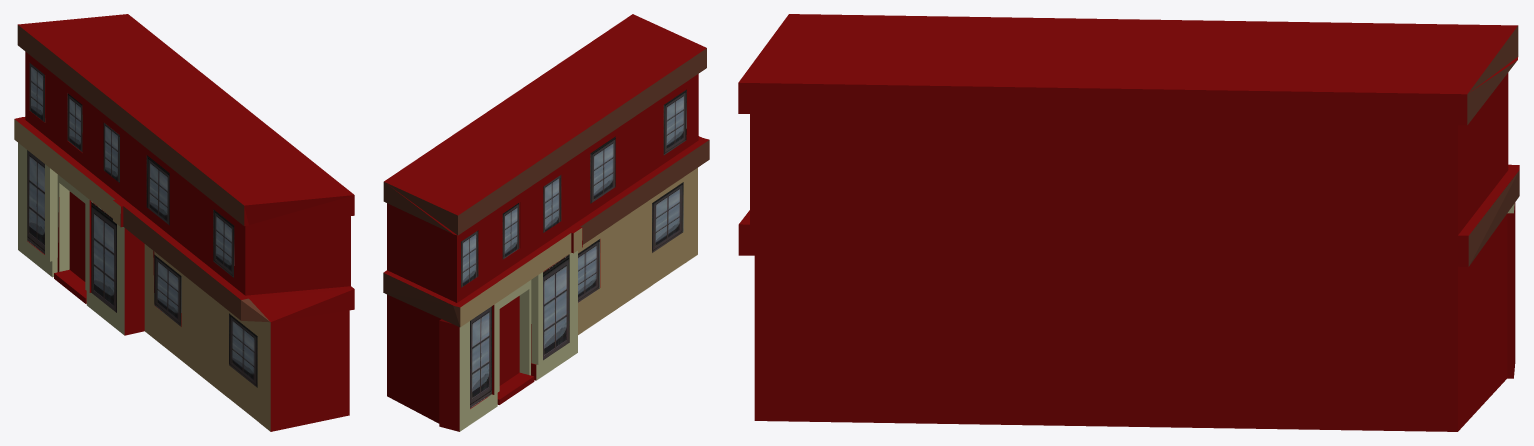
The model's file is build4.obj.
3 renders of one model, left to right at view 1: azimuth 30°, elevation 25°; view 2: azimuth 150°, elevation 25°; view 3: azimuth 270°, elevation 25°, orthographic. The views are drawn at different scales.
Parts seen in each view (by area): view 1: Sketchup; view 2: Sketchup; view 3: Sketchup.
Part boxes in pixels (left/top/right/bottom): Sketchup: left=14, top=14, right=354, bottom=431; Sketchup: left=383, top=14, right=709, bottom=431; Sketchup: left=738, top=14, right=1519, bottom=431.
Size of the model in its own units: 7.34 by 14.05 by 29.44.
